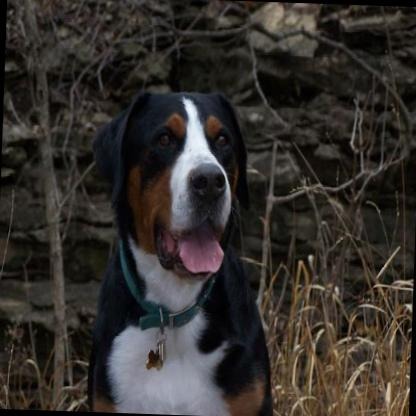Greater_Swiss_Mountain_dog: (80, 83, 286, 416)
